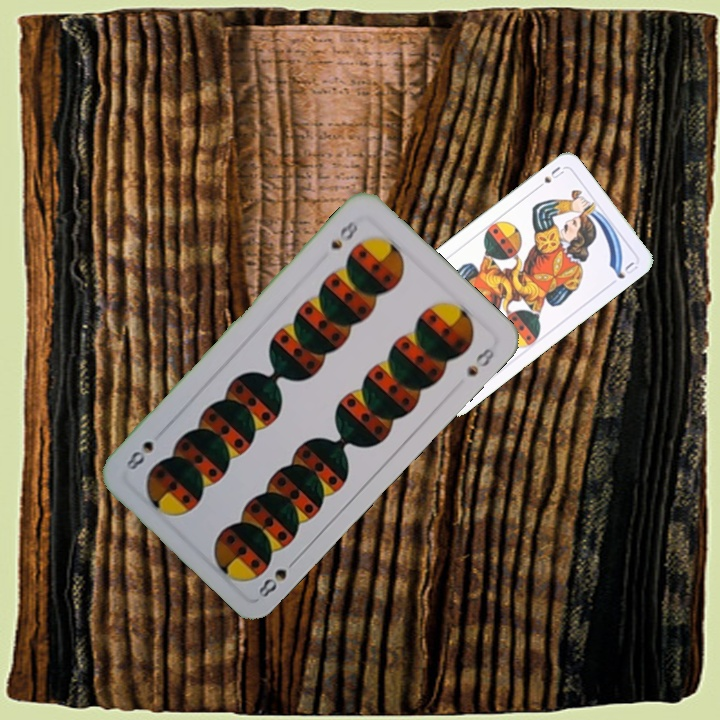S8: (254, 553, 301, 600), (326, 215, 363, 252)
SU: (531, 162, 567, 193)
